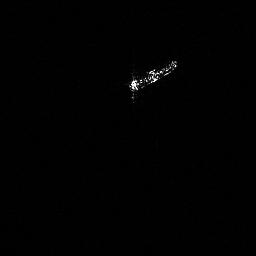ship: (130, 59, 177, 92)
